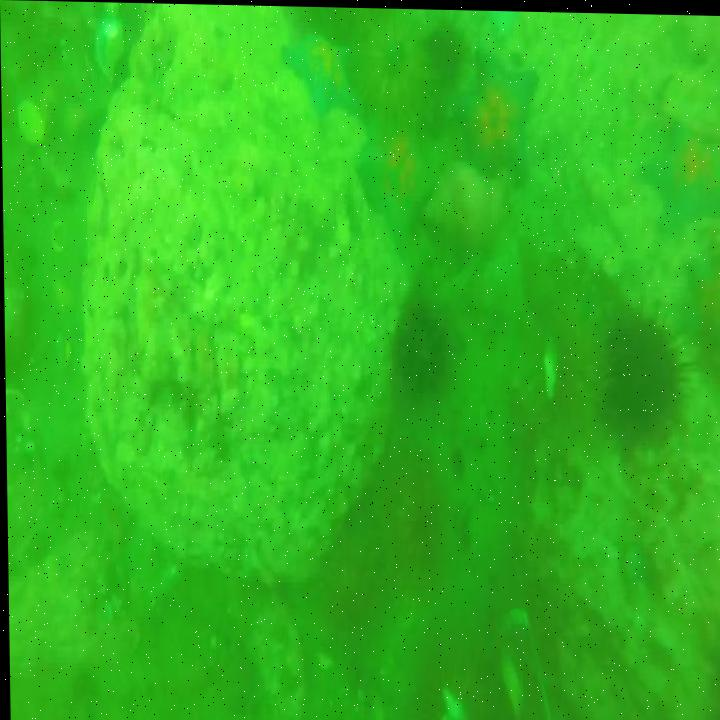echinus: (597, 300, 698, 453), (382, 291, 453, 402), (419, 18, 466, 90)
scallop: (15, 100, 44, 145), (48, 221, 70, 257)
starfish: (640, 103, 720, 236), (355, 120, 444, 237), (465, 47, 541, 183), (282, 21, 367, 122)
